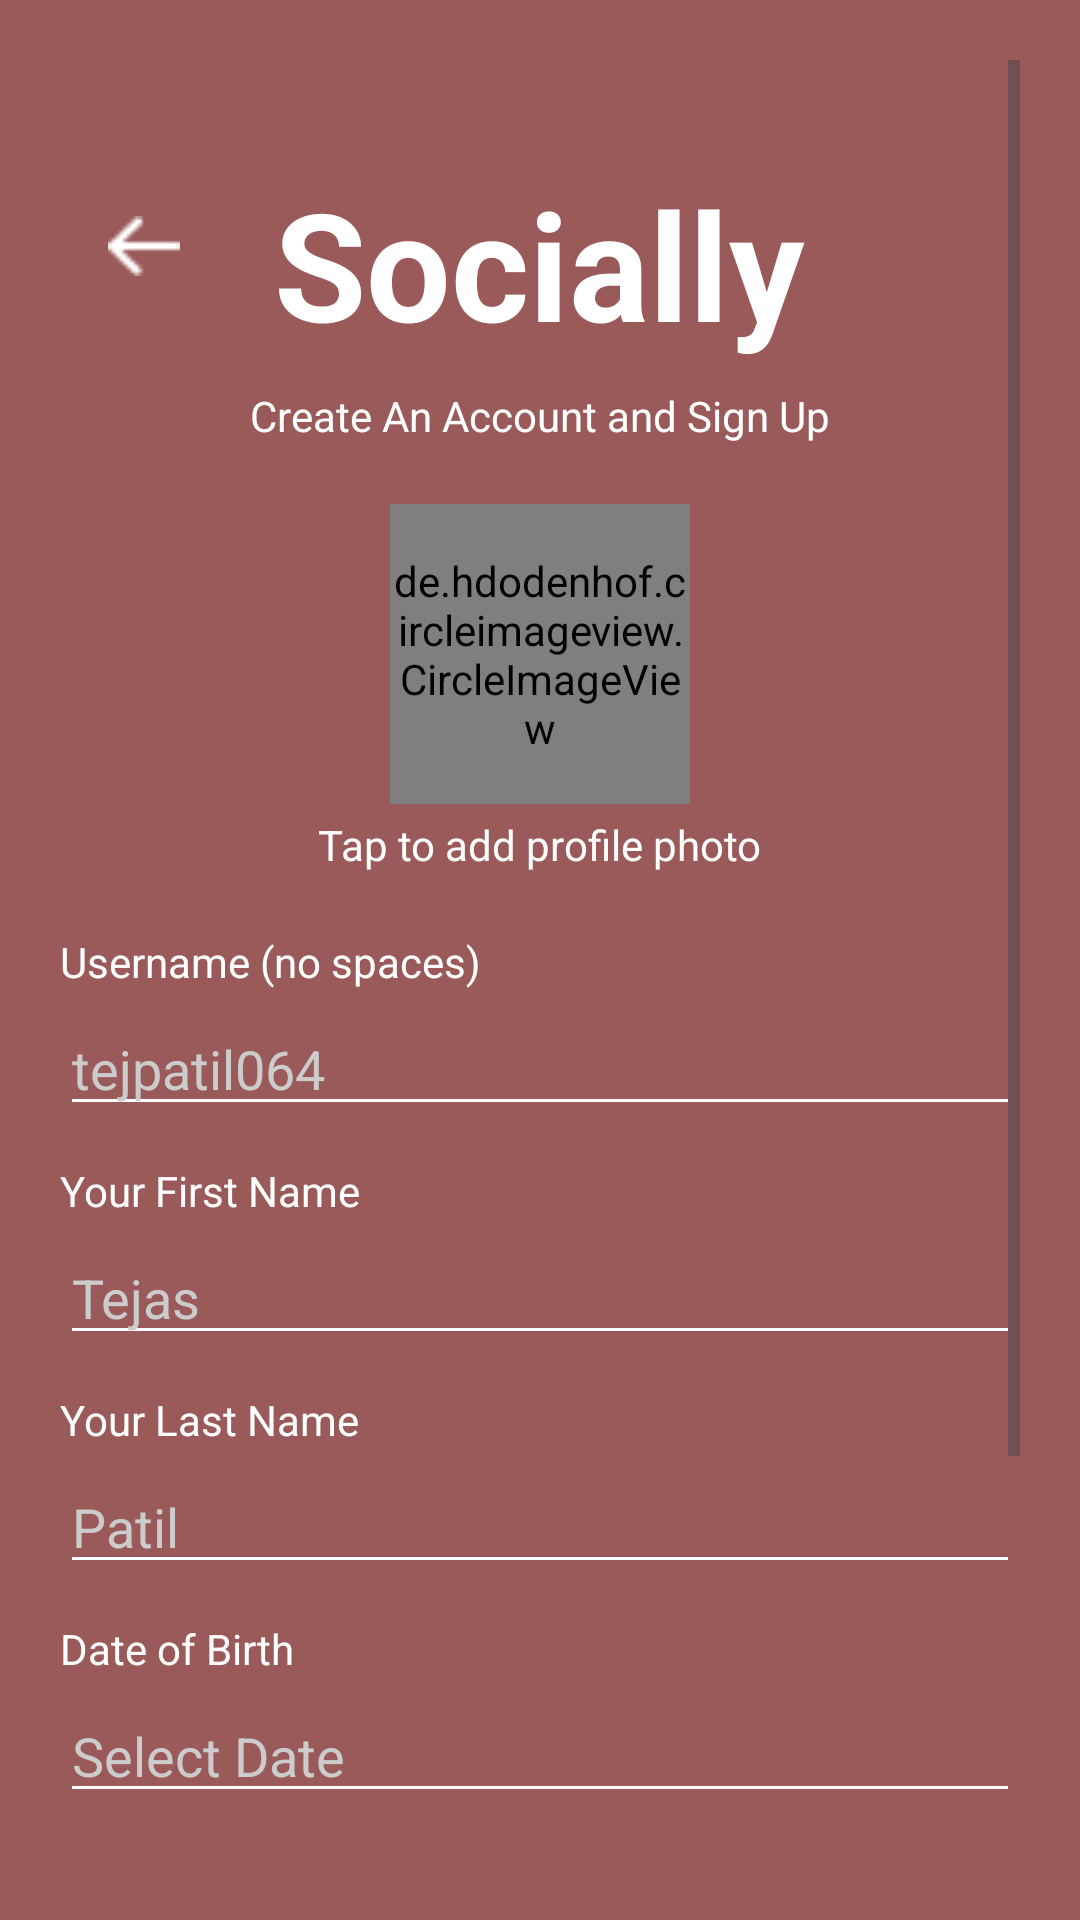

Screen size 1080x1920. Icon name, then its box in pixels as region(x1, y1, x2, y2):
back arrow: region(108, 216, 180, 276)
